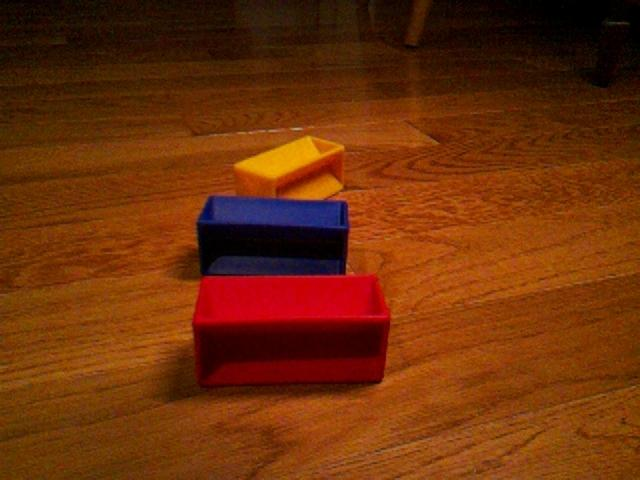blue: (195, 193, 351, 276)
red: (192, 272, 392, 388)
yellow: (232, 134, 347, 201)
